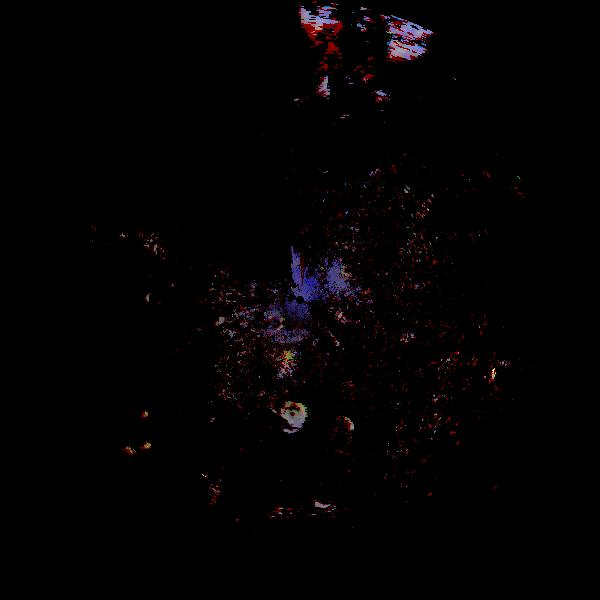roost: (277, 401, 310, 434)
